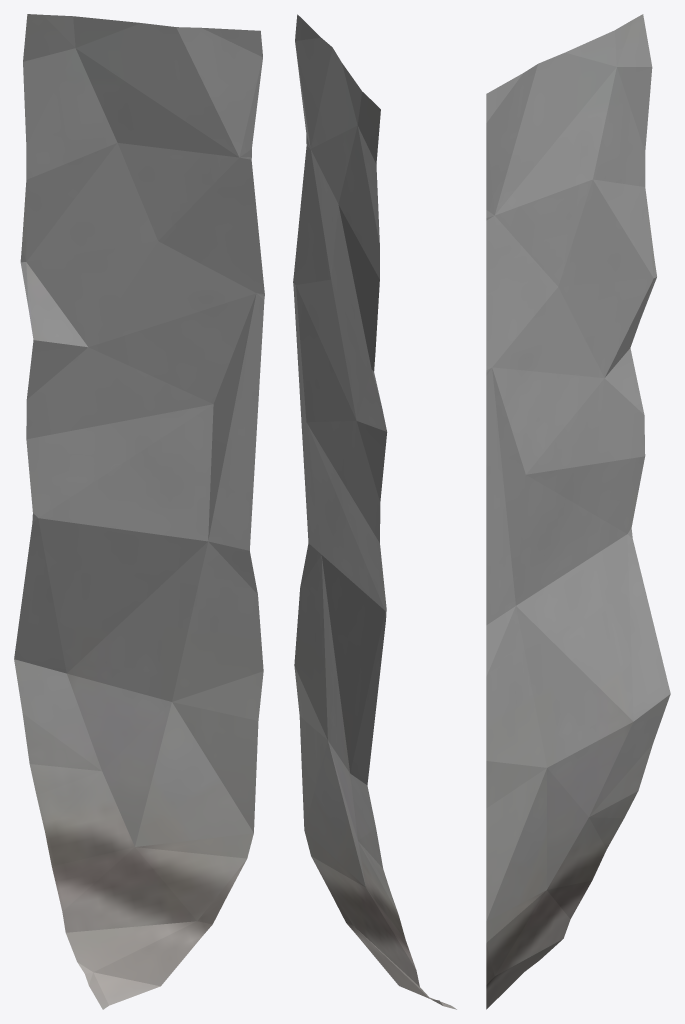
3 renders of one model, left to right at view 1: azimuth 30°, elevation 25°; view 2: azimuth 150°, elevation 25°; view 3: azimuth 270°, elevation 25°, orthographic. The views are drawn at different scales.
Size of the model in its own units: 0.1392 by 0.7725 by 0.1323.
Materials: 1 (1 with a texture image).
